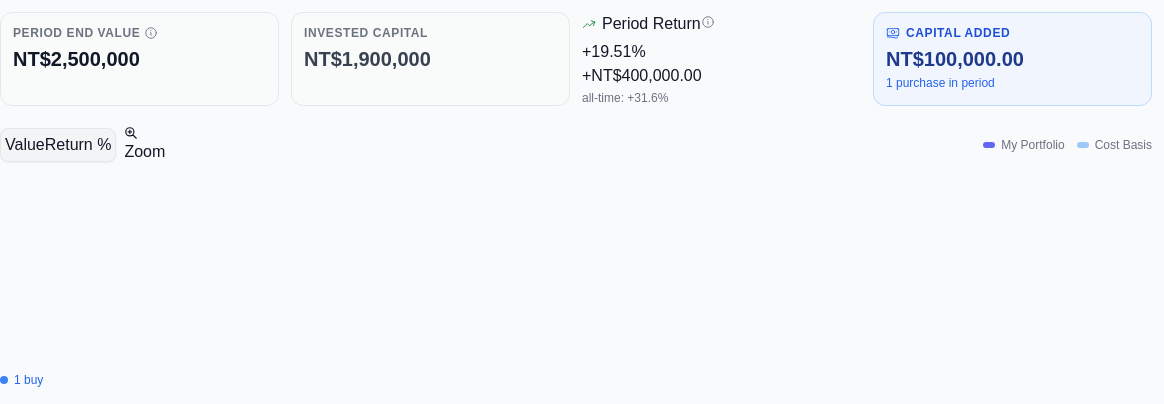
Test: AssetTrendChart — view mode toggle › toggles to return % mode on click
Click the button "Return %". click: coordinates (78, 145)
box: x1=45 y1=133 x2=111 y2=157
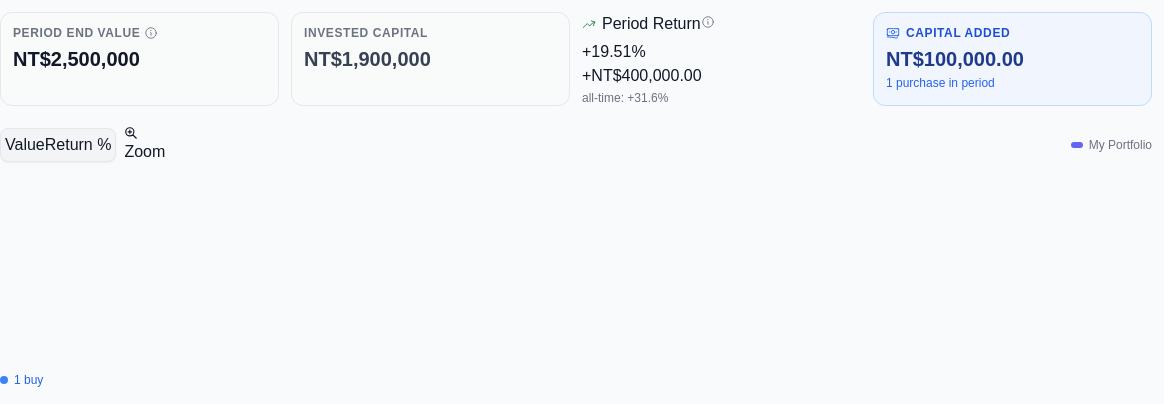
Now the text "Cost Basis" is gone
